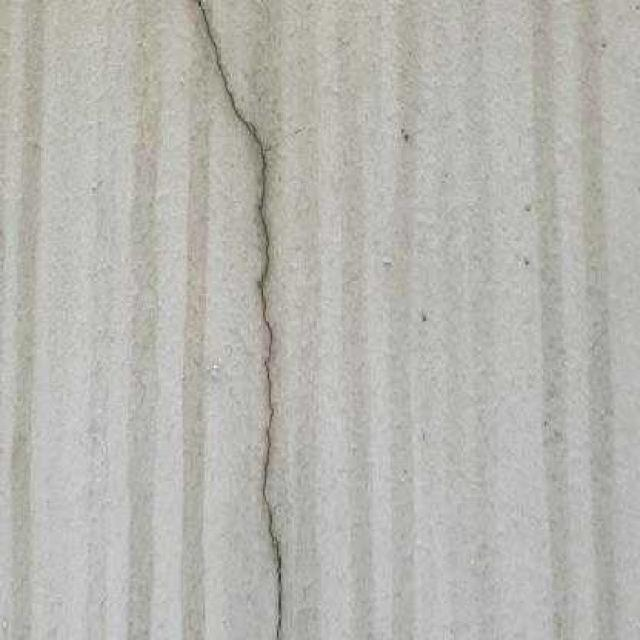D00: (194, 0, 282, 640)
